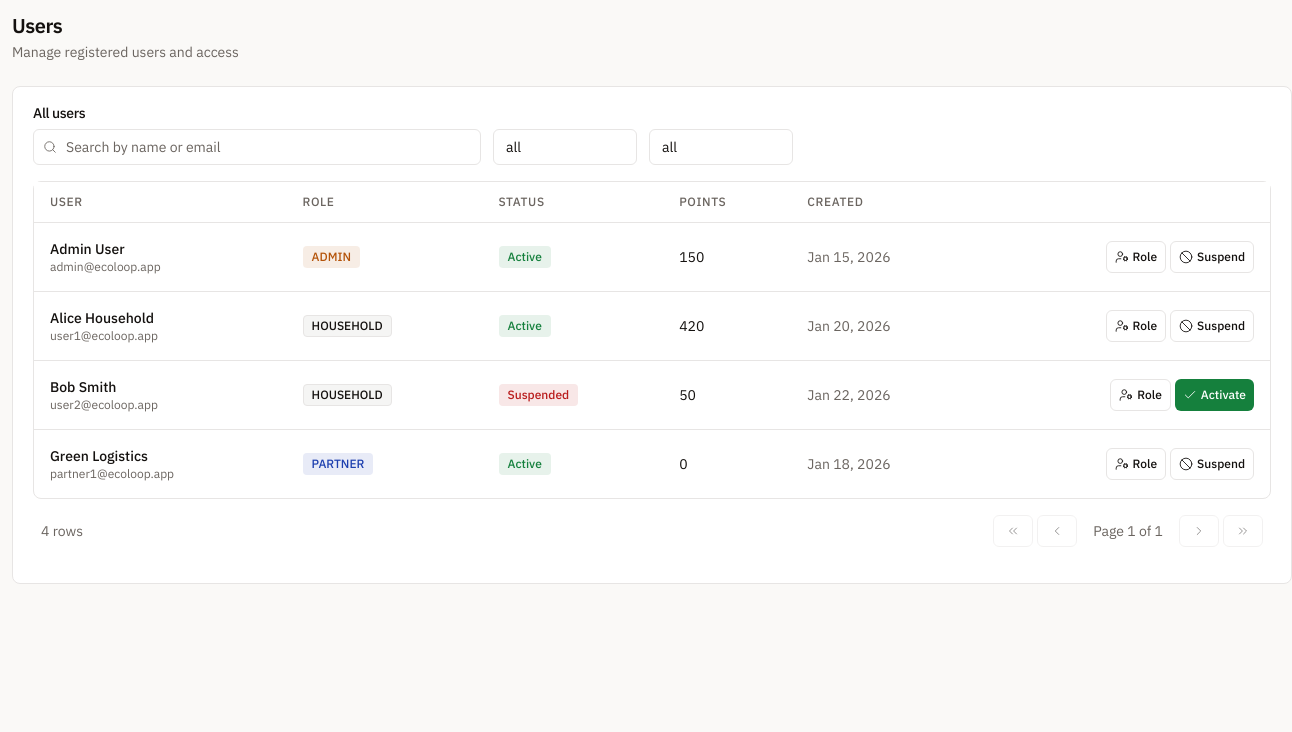
Users › filters users by search query
expect the text "Admin User" is shown: met, box [50,240,125,258]
Type "Alice" into the field with placeholder "Search by name or email". click: point(257, 147)
box: [33,129,481,165]
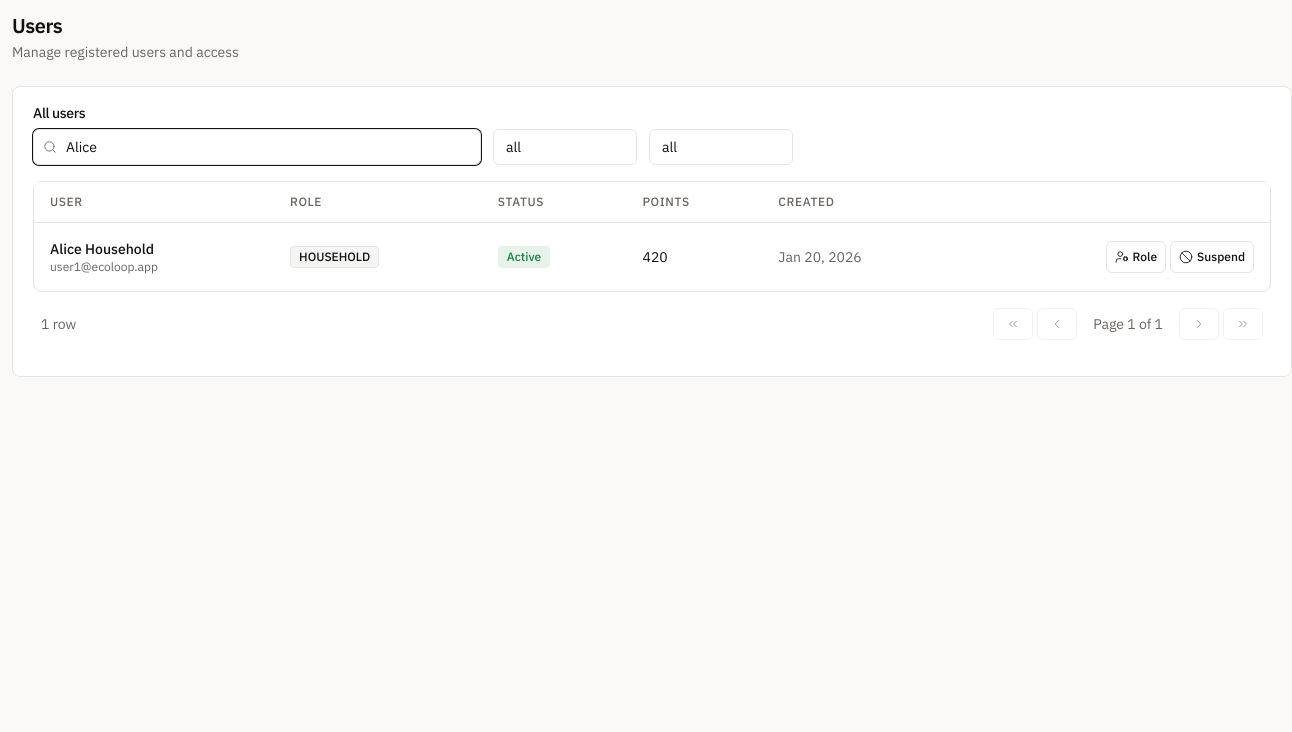
expect the text "Alice Household" is shown: met, box [50,240,154,258]
expect the text "Bob Smith" is gone: met
